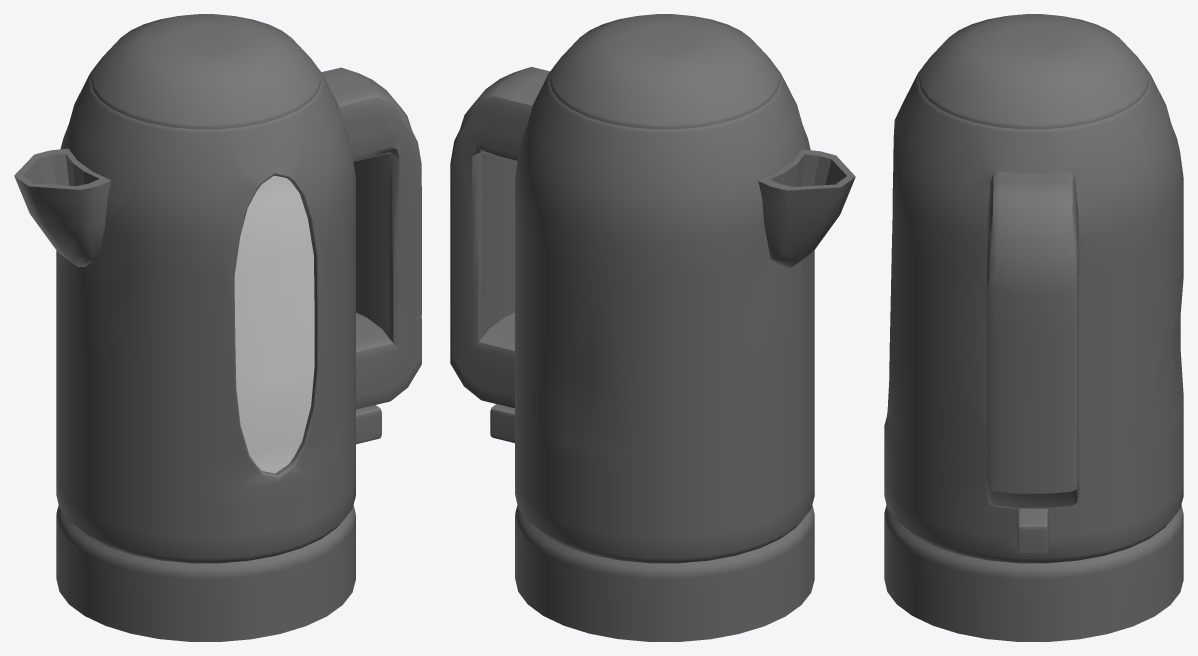
Rendered from geo_kettle.fbx.
3 views of the same model, side by side, from view 1: azimuth 30°, elevation 25°; view 2: azimuth 150°, elevation 25°; view 3: azimuth 270°, elevation 25° (orthographic).
Visible parts, largest first — view 1: geo_kettle; view 2: geo_kettle; view 3: geo_kettle.
Boxes of the visible parts, x1,y1,x2,y2 form: geo_kettle: (14,14,421,641); geo_kettle: (450,14,855,641); geo_kettle: (884,14,1183,641).
Bounding box in the file's own units: 0.4124 × 0.5537 × 0.2785.
Materials: 1 (1 with a texture image).
